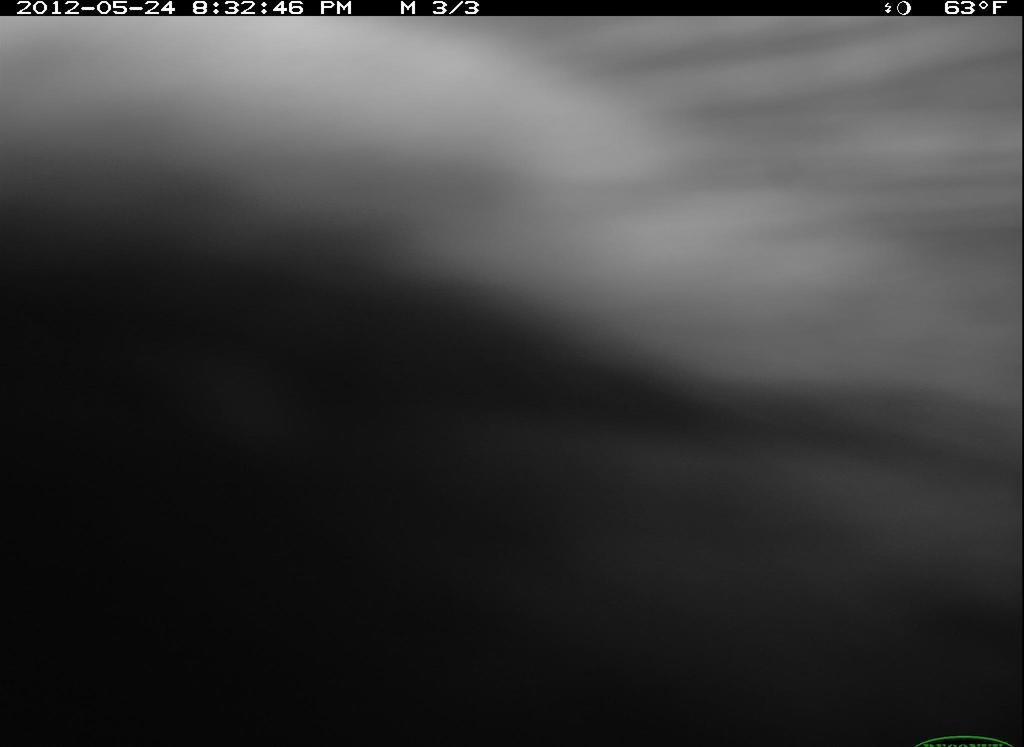raccoon: (1, 14, 1022, 737)
